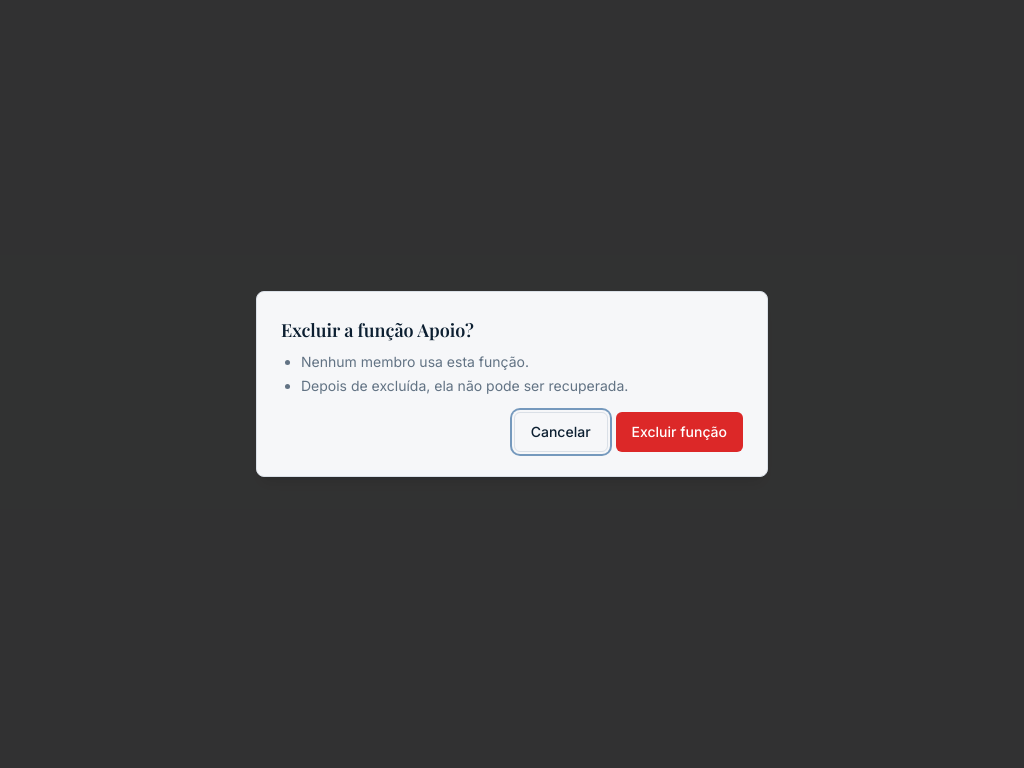
it: RoleDeleteFlow (T4) › queda de conexão: o diálogo continua aberto, com o aviso
Click the button "Excluir função". click: (679, 432)
box: [616, 412, 743, 452]
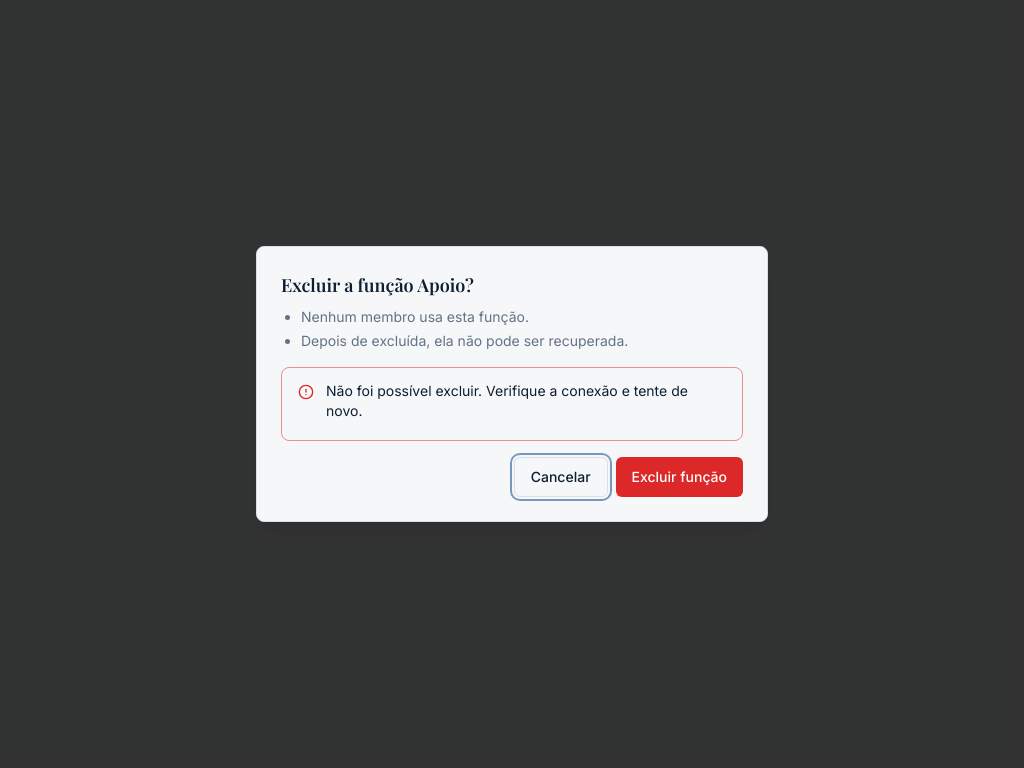
expect the text "Não foi possível excluir. Verifique a conexão e tente de novo." is shown: met, box [326, 382, 688, 419]
